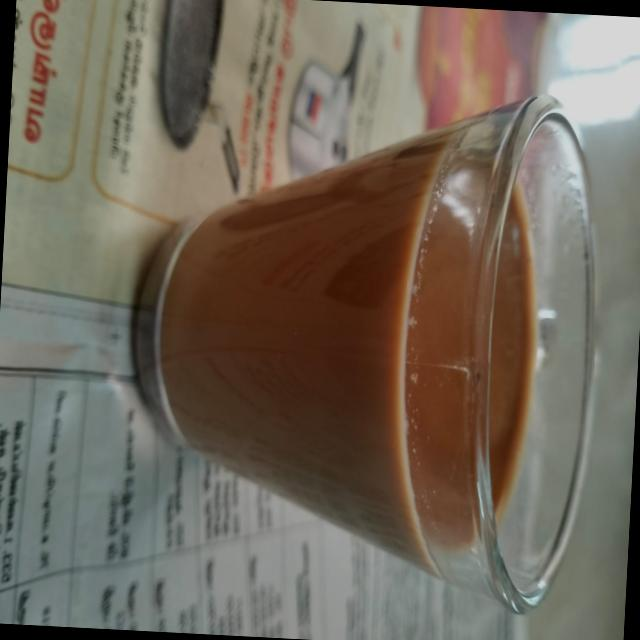glass-VX4N: (122, 71, 608, 616)
